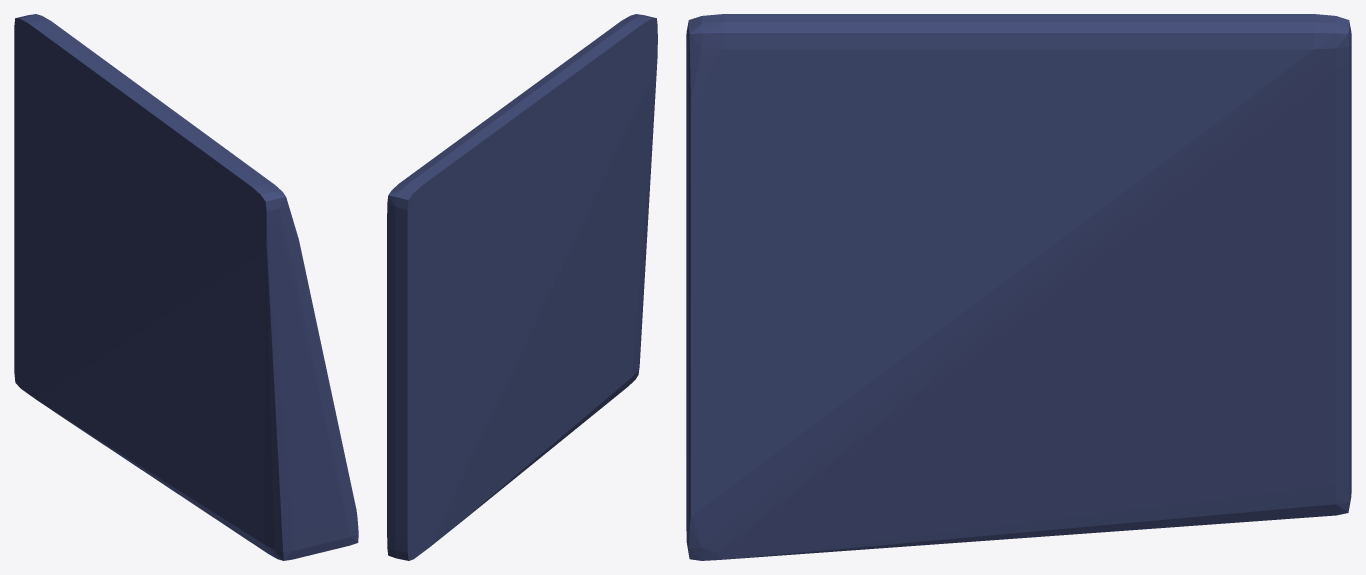
Rendered from left_hip_yaw_link_part_16.obj.
3 views of the same model, side by side, from view 1: azimuth 30°, elevation 25°; view 2: azimuth 150°, elevation 25°; view 3: azimuth 270°, elevation 25° (orthographic). The views are drawn at different scales.
Size of the model in its own units: 0.00876 by 0.0334 by 0.0409.
